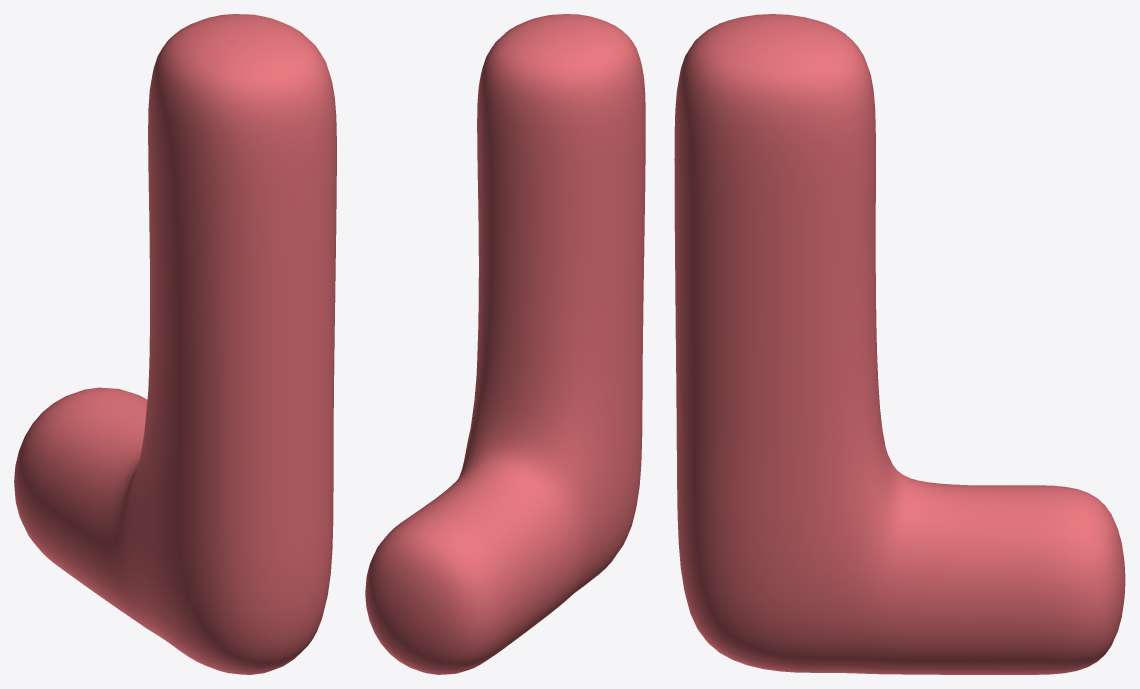
Rendered from LetterL.glb.
3 renders of one model, left to right at view 1: azimuth 30°, elevation 25°; view 2: azimuth 150°, elevation 25°; view 3: azimuth 270°, elevation 25°, orthographic. The views are drawn at different scales.
Visible parts, largest first — view 1: L1; view 2: L1; view 3: L1.
Part boxes in pixels (bbox=[...]): L1: bbox=[14, 14, 336, 674]; L1: bbox=[365, 14, 645, 674]; L1: bbox=[674, 14, 1125, 674].
Size of the model in its own units: 0.7928 by 3.06 by 1.96.
